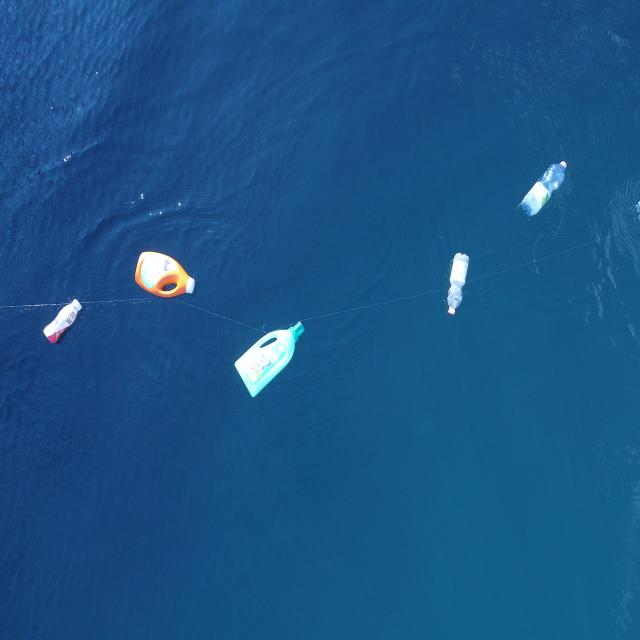bottles: (233, 317, 307, 399), (133, 248, 197, 300), (519, 158, 569, 219), (42, 296, 84, 344), (445, 249, 471, 316)
